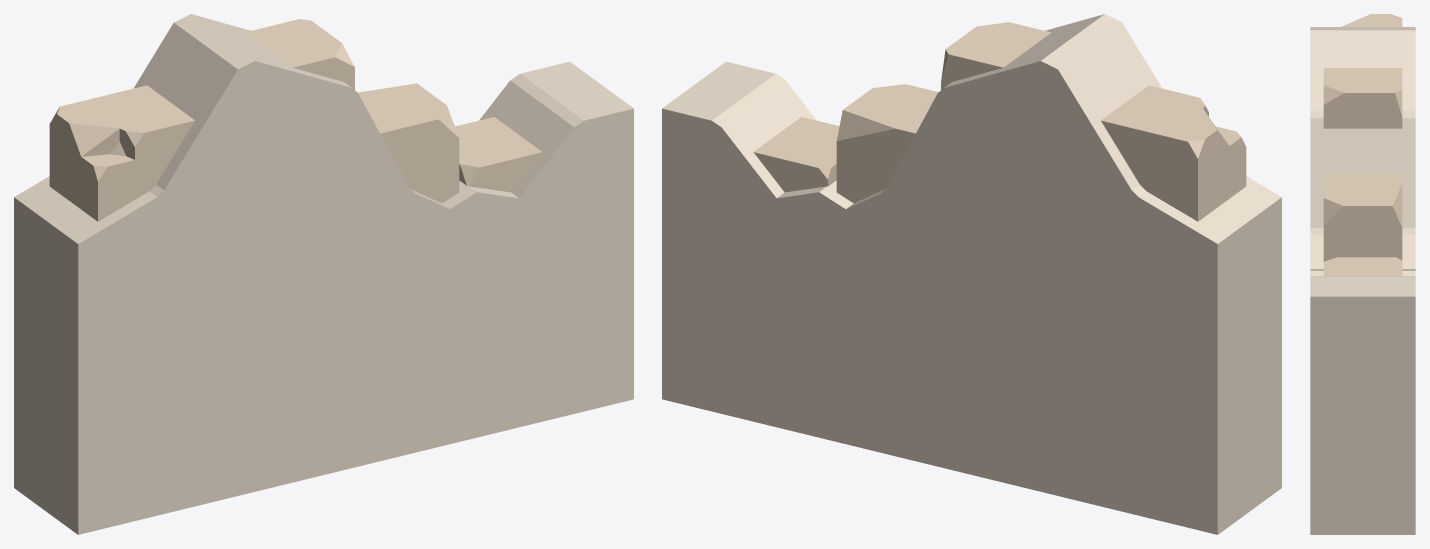
Rendered from Wall_Ruined_Half_1.glb.
3 renders of one model, left to right at view 1: azimuth 30°, elevation 25°; view 2: azimuth 150°, elevation 25°; view 3: azimuth 270°, elevation 25°, orthographic. The views are drawn at different scales.
Parts seen in each view (by area): view 1: Wall_Ruined_Half_1; view 2: Wall_Ruined_Half_1; view 3: Wall_Ruined_Half_1.
Part boxes in pixels (box(x1,y1,x2,y2)): Wall_Ruined_Half_1: box(14, 14, 633, 534); Wall_Ruined_Half_1: box(662, 14, 1281, 534); Wall_Ruined_Half_1: box(1310, 14, 1415, 534).
Size of the model in its own units: 1 by 0.7407 by 0.2.
